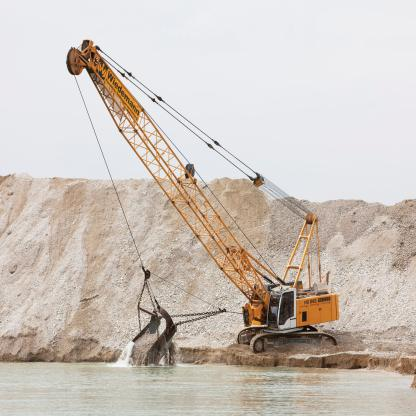excavator: (55, 32, 344, 374)
